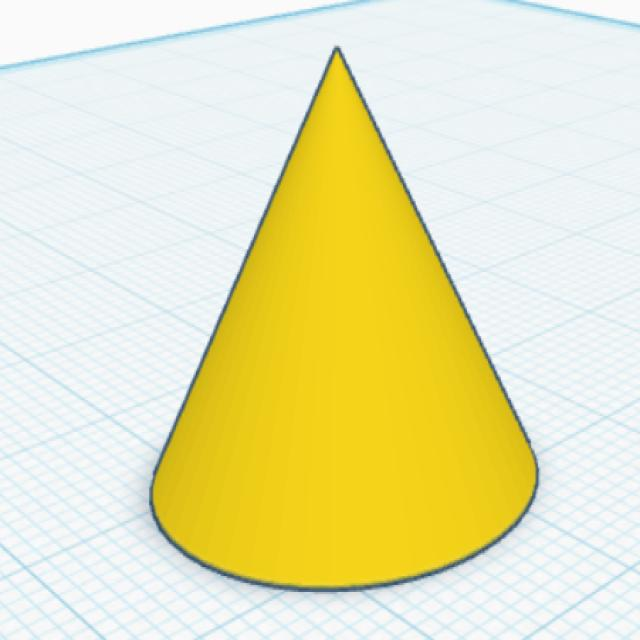cone: (145, 40, 544, 596)
